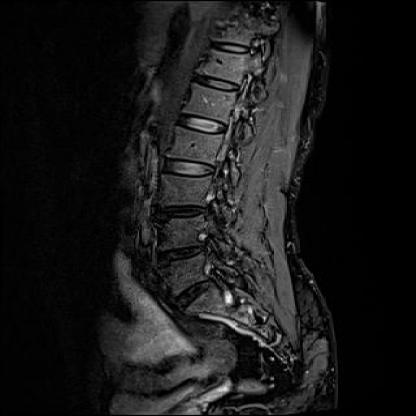Degenerative Disc Diseaserotation: (168, 279, 225, 309)
Disc Bulgerotation: (150, 242, 221, 267), (145, 200, 214, 225)
